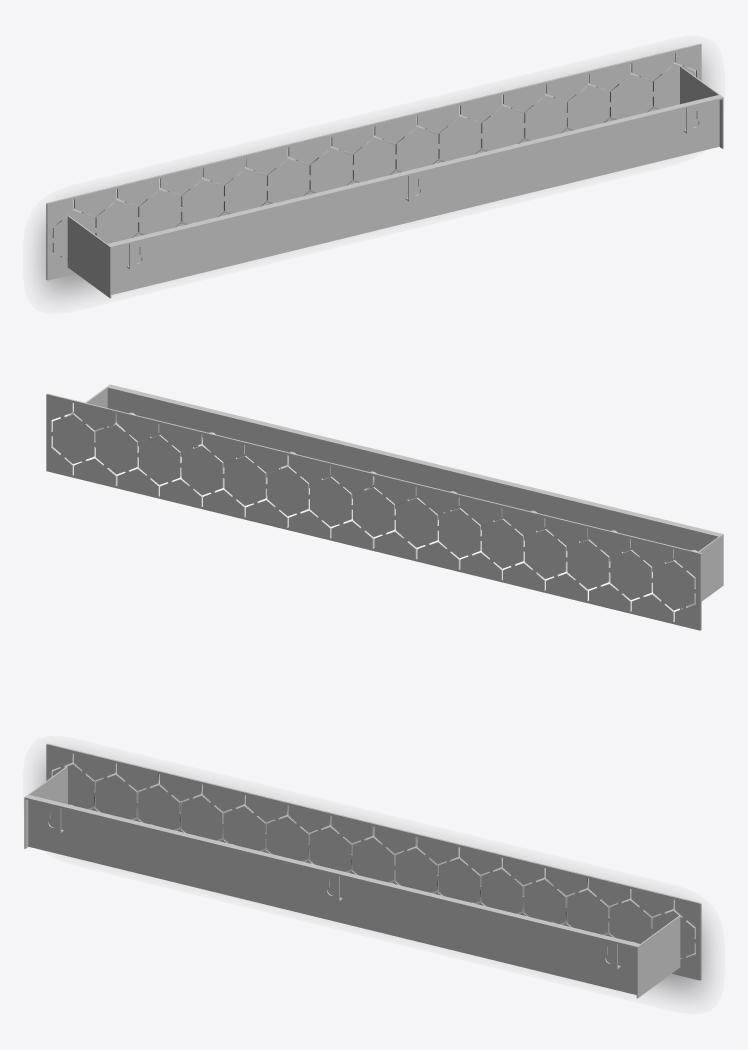
File: bee-hook.d5e00d060d.ar.glb
The picture shows the model from 3 angles, top to bottom: view 1: azimuth 30°, elevation 25°; view 2: azimuth 150°, elevation 25°; view 3: azimuth 330°, elevation 25°; orthographic projection.
Parts seen in each view (by area): view 1: NAUO1, object 2; view 2: NAUO1; view 3: NAUO1, object 2.
Boxes of the visible parts, x1,y1,x2,y2 form: NAUO1: (46, 43, 723, 298); object 2: (38, 55, 708, 295); NAUO1: (46, 384, 723, 630); NAUO1: (24, 743, 701, 998); object 2: (39, 755, 709, 995).
Size of the model in its own units: 0.88 by 0.17 by 0.092.
Materials: 2 (1 with a texture image).
